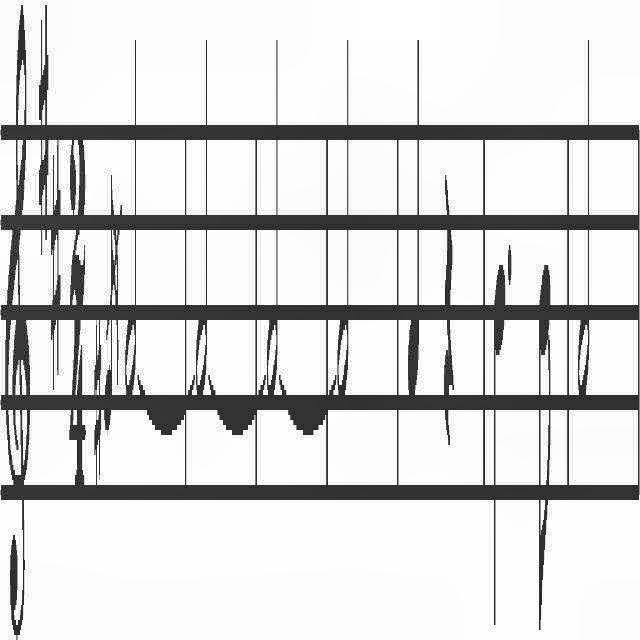Bass-clef: (4, 0, 32, 640)
Diez: (37, 1, 51, 256), (91, 284, 105, 512), (51, 134, 63, 393)
Eighth-note: (534, 235, 557, 640)
Half-note: (576, 13, 600, 487), (337, 9, 355, 453), (124, 9, 140, 447), (264, 0, 280, 434), (195, 0, 209, 440)
Quarter-note: (400, 9, 426, 450), (492, 235, 506, 640)
Quarter-rest: (440, 106, 460, 520)
